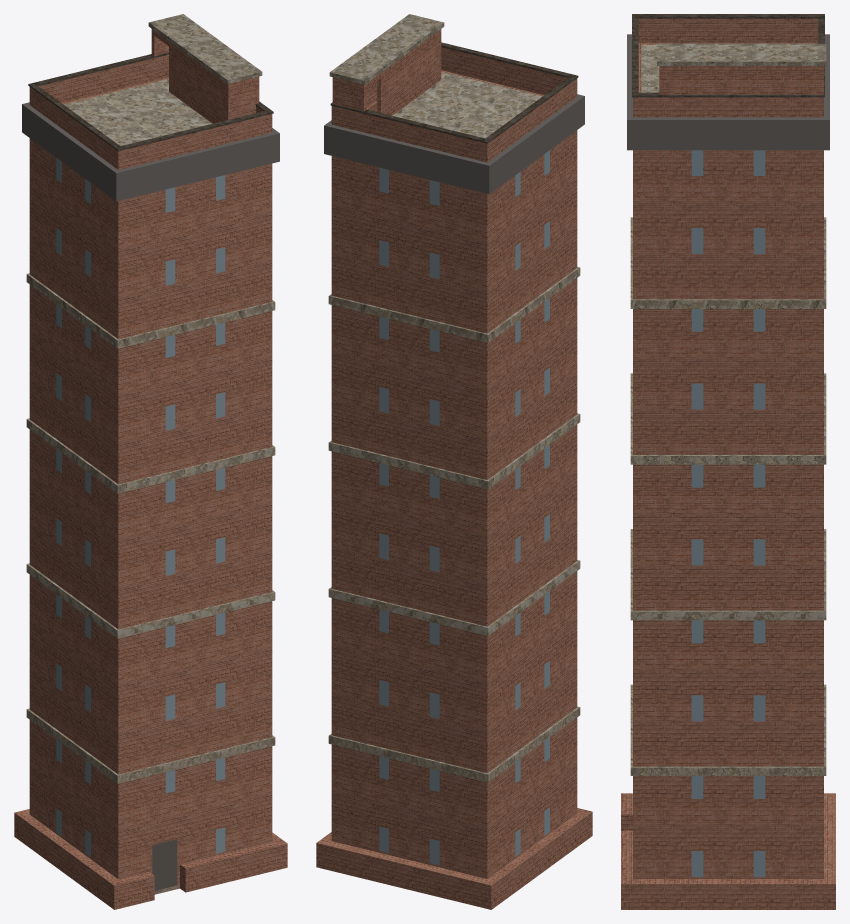
Rendered from ew-chimney.works-v2.lod1.glb.
The picture shows the model from 3 angles, left to right: view 1: azimuth 30°, elevation 25°; view 2: azimuth 150°, elevation 25°; view 3: azimuth 270°, elevation 25°; orthographic projection. The views are drawn at different scales.
Visible parts, largest first — view 1: ew-chimney; view 2: ew-chimney; view 3: ew-chimney.
Boxes of the visible parts, left/top/right/bottom form: ew-chimney: left=14, top=14, right=287, bottom=909; ew-chimney: left=316, top=14, right=592, bottom=909; ew-chimney: left=621, top=14, right=835, bottom=909.
Bounding box in the file's own units: 9 × 39 × 9.
3 materials, 2 textured.
